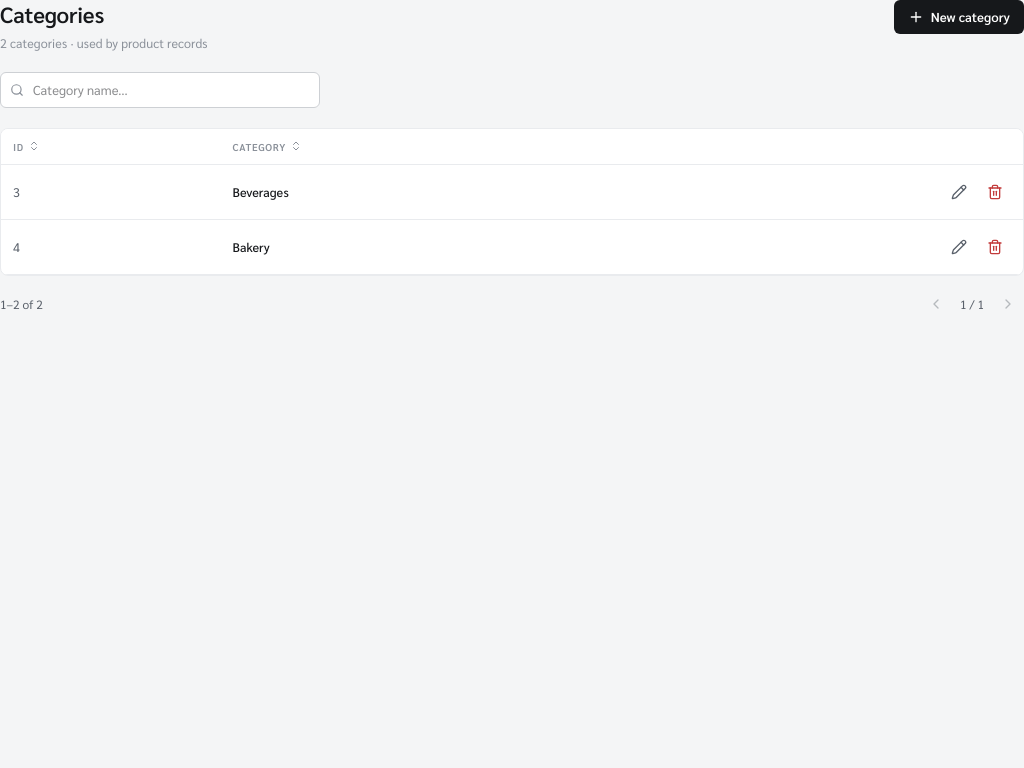
MasterDataScreen via CategoriesView › surfaces a 409 in-use conflict with its Request ID and keeps the dialog open
This screenshot has width=1024, height=768.
Click the button named "delete beverages".
click(995, 192)  # box [979,176,1011,208]
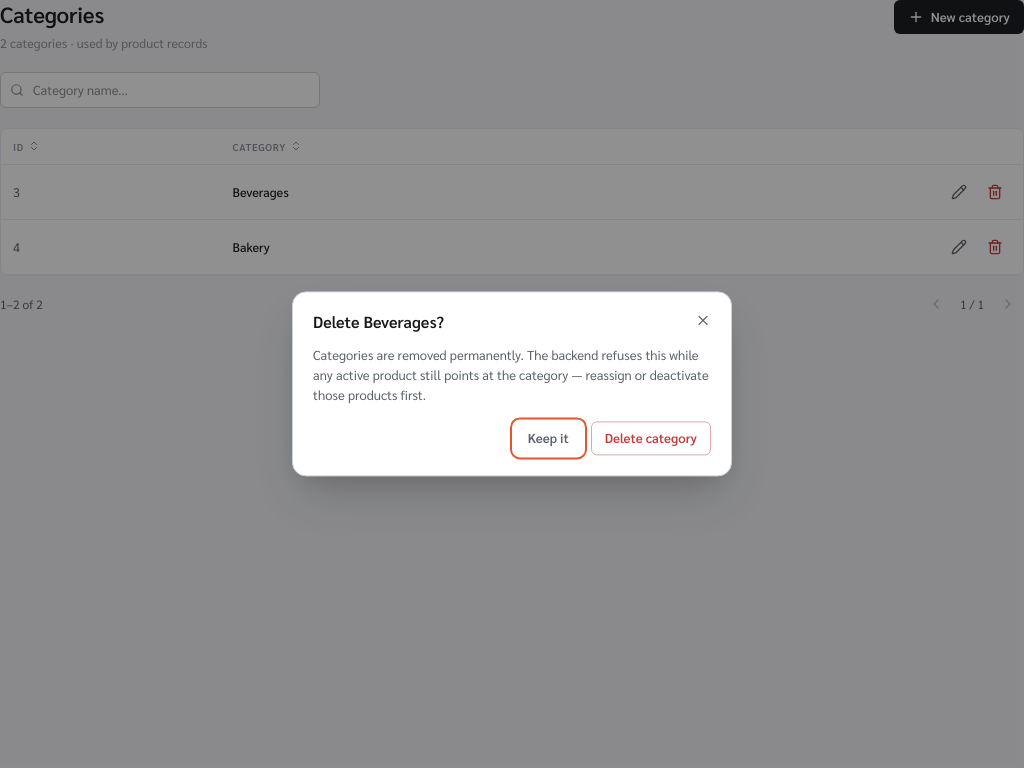
Click the button "Delete category".
click(651, 439)  # box [591,422,711,456]
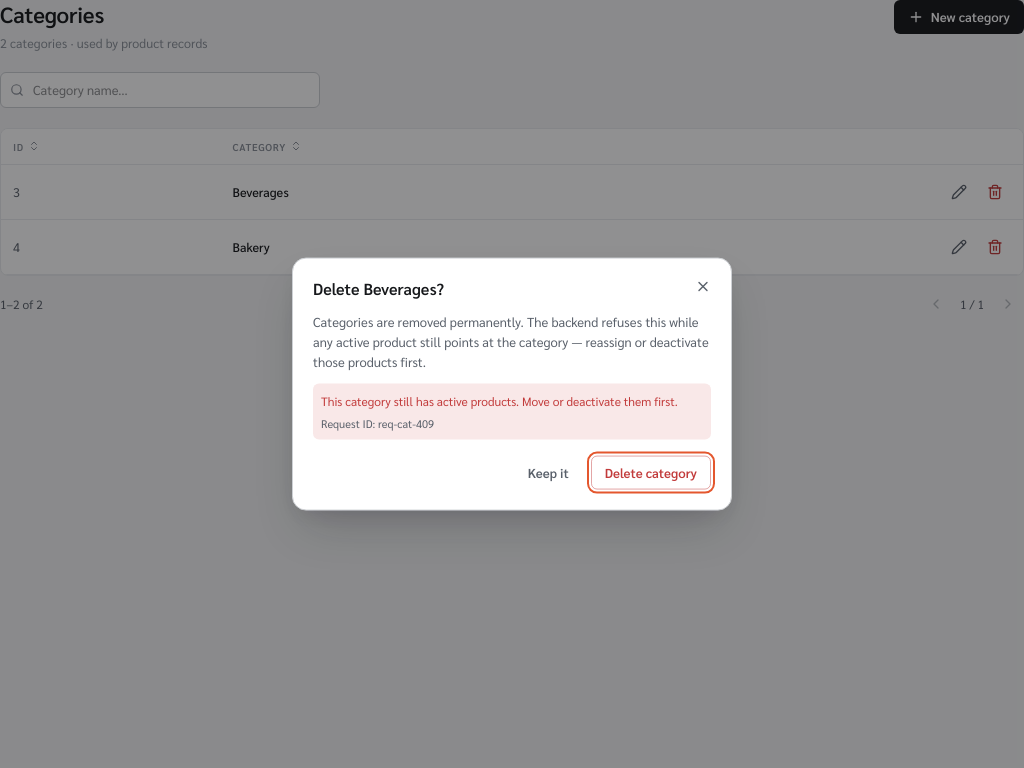
Check: the text "active products" is shown, box [321,393,678,409]
Check: the text "req-cat-409" is shown, box [378,415,434,430]
